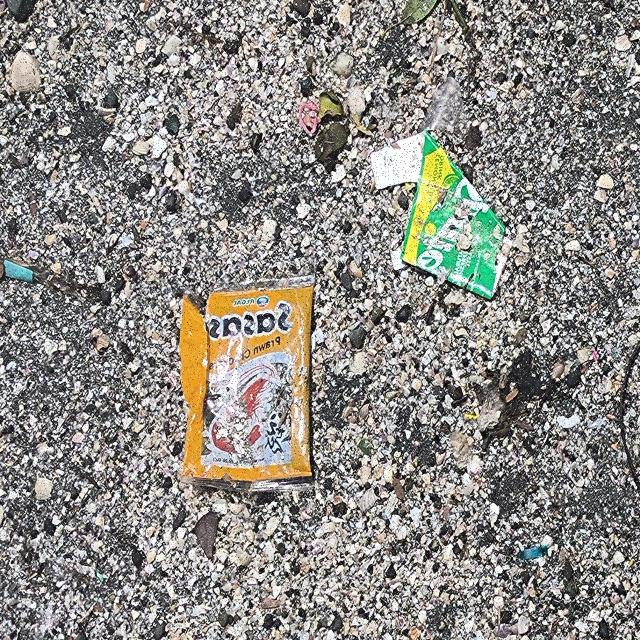plastic_waste: (179, 274, 317, 493), (372, 132, 513, 302)
